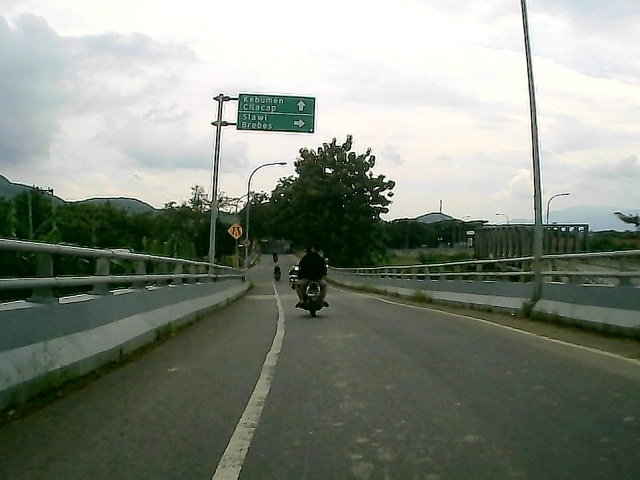Akhir bangunan pemisah satu arah: (226, 220, 246, 242)
